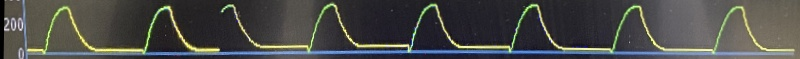leakage: (0, 0, 784, 59)
